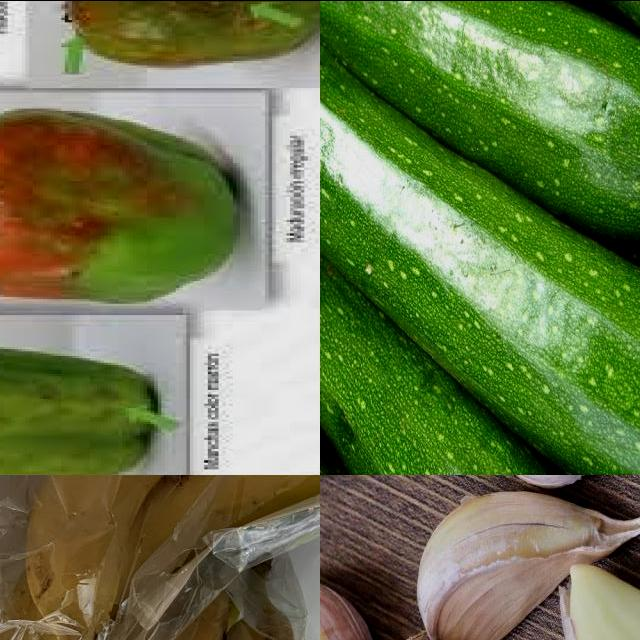bell_pepper: (1, 103, 265, 306)
garlic: (418, 501, 624, 640), (321, 575, 418, 640)
zucchini: (321, 1, 640, 252)
